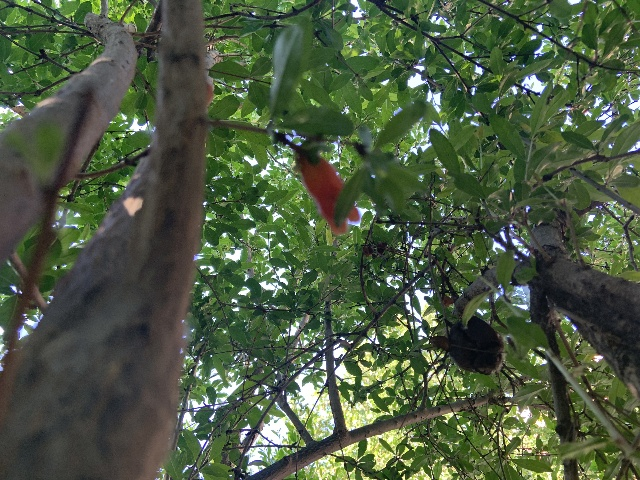flower: (298, 154, 357, 234)
